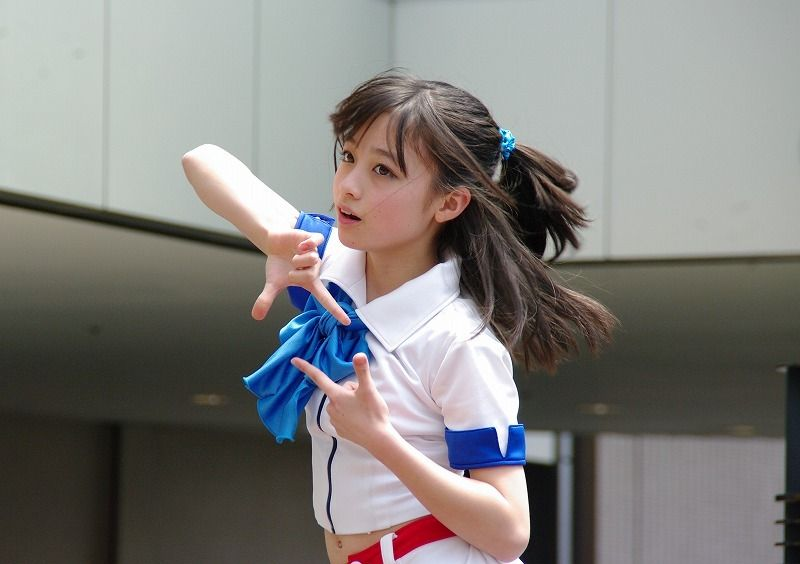face: (334, 115, 473, 255)
hand: (251, 229, 353, 329), (290, 354, 393, 449)
